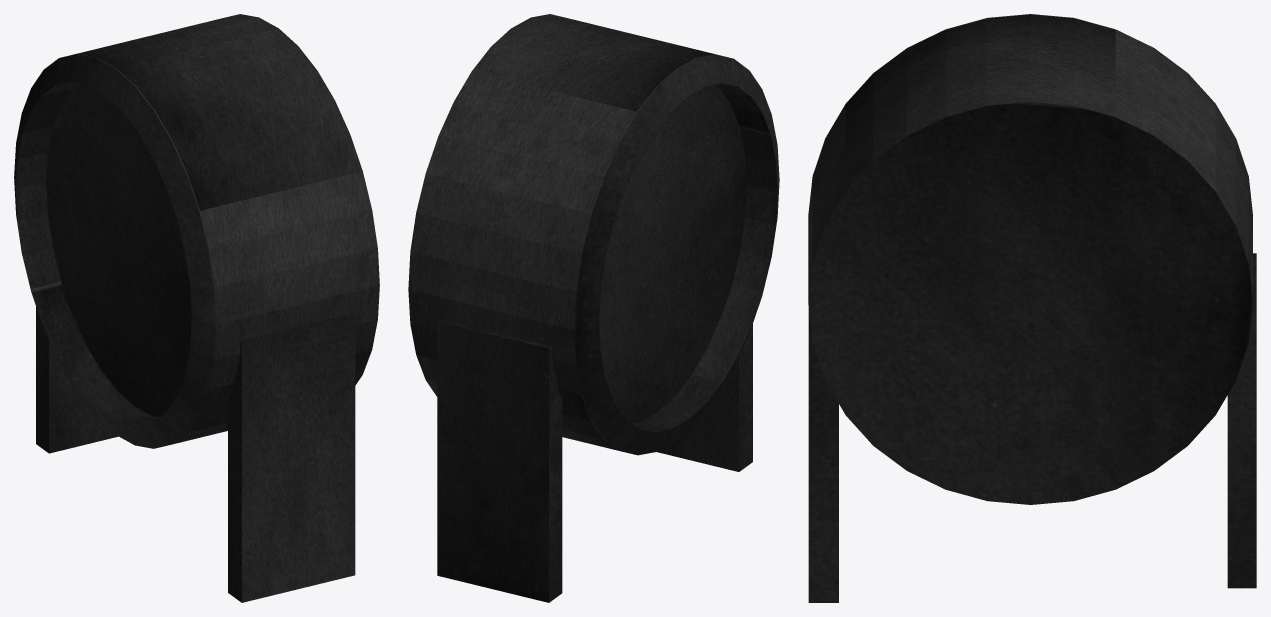
File: reflactor.obj
The picture shows the model from 3 angles, left to right: view 1: azimuth 30°, elevation 25°; view 2: azimuth 150°, elevation 25°; view 3: azimuth 270°, elevation 25°; orthographic projection. The views are drawn at different scales.
Parts seen in each view (by area): view 1: Cylinder.002; view 2: Cylinder.002; view 3: Cylinder.002.
Part boxes in pixels (x1,y1,x2,y2): Cylinder.002: (14, 14, 379, 602); Cylinder.002: (408, 14, 779, 602); Cylinder.002: (808, 14, 1256, 602).
Size of the model in its own units: 1 by 2.55 by 2.02.
